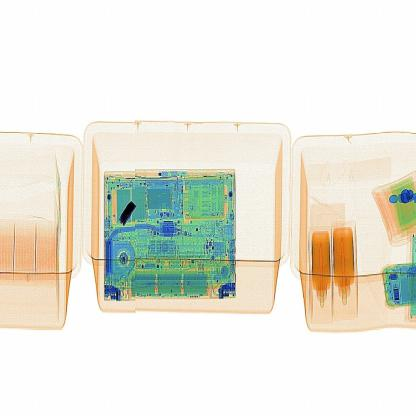scissors: (114, 193, 145, 232)
